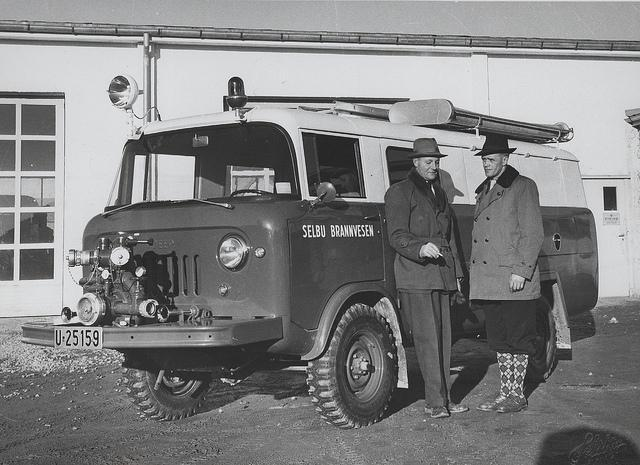truck: (15, 70, 597, 434)
